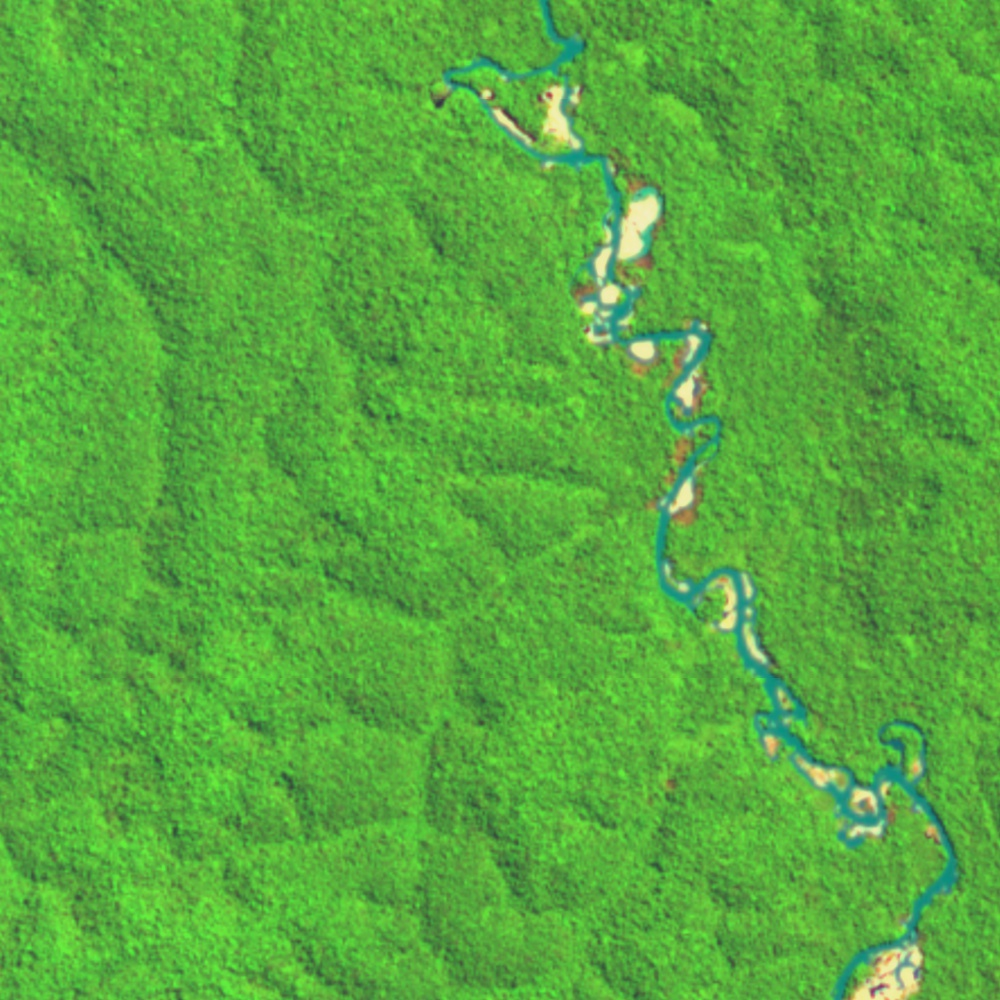illegal: (749, 685, 948, 850), (568, 149, 671, 364), (428, 74, 592, 171), (652, 556, 781, 675), (662, 315, 723, 527), (841, 933, 934, 1000)
